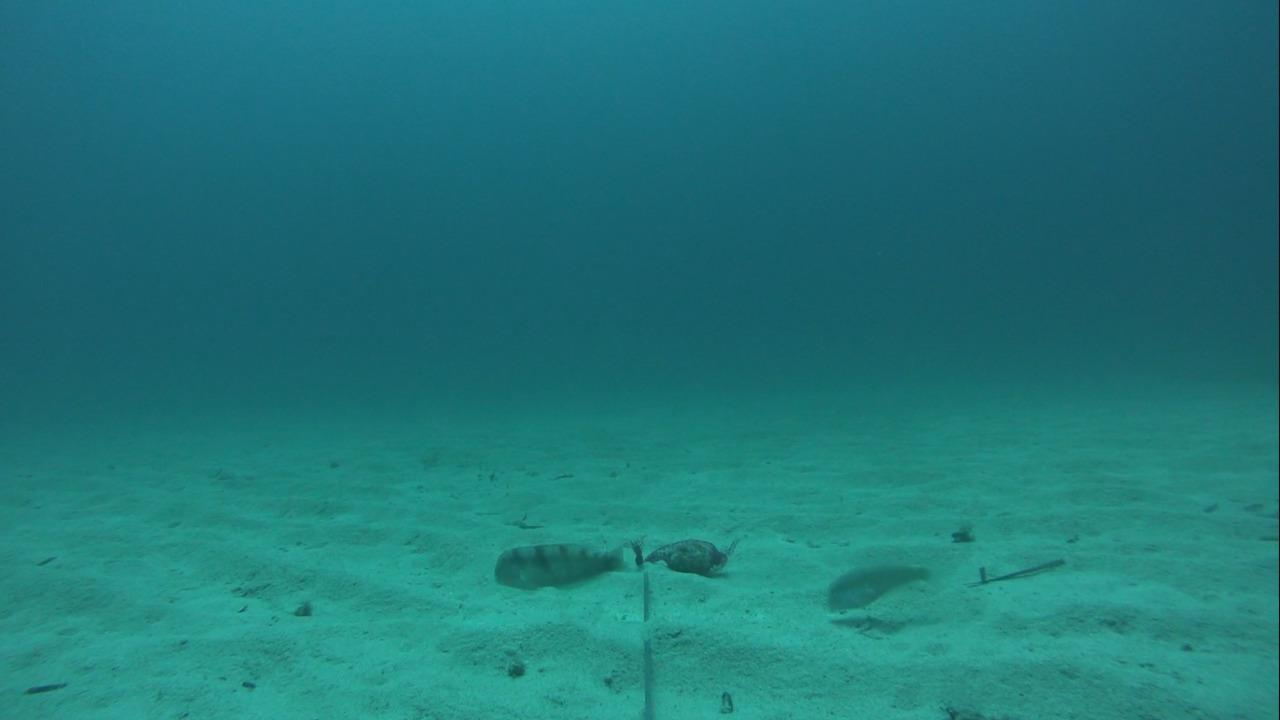raor: (490, 533, 636, 594), (825, 556, 933, 624)
